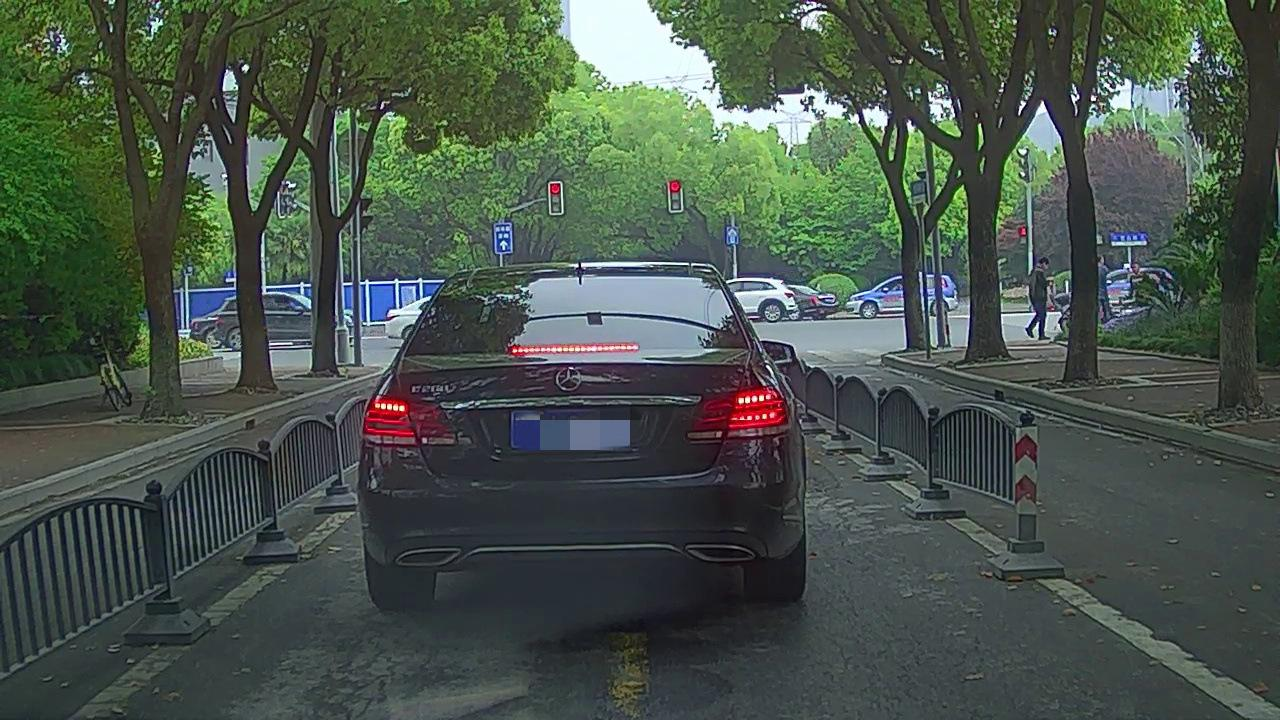traffic_light: (548, 183, 563, 214), (668, 182, 682, 211)
